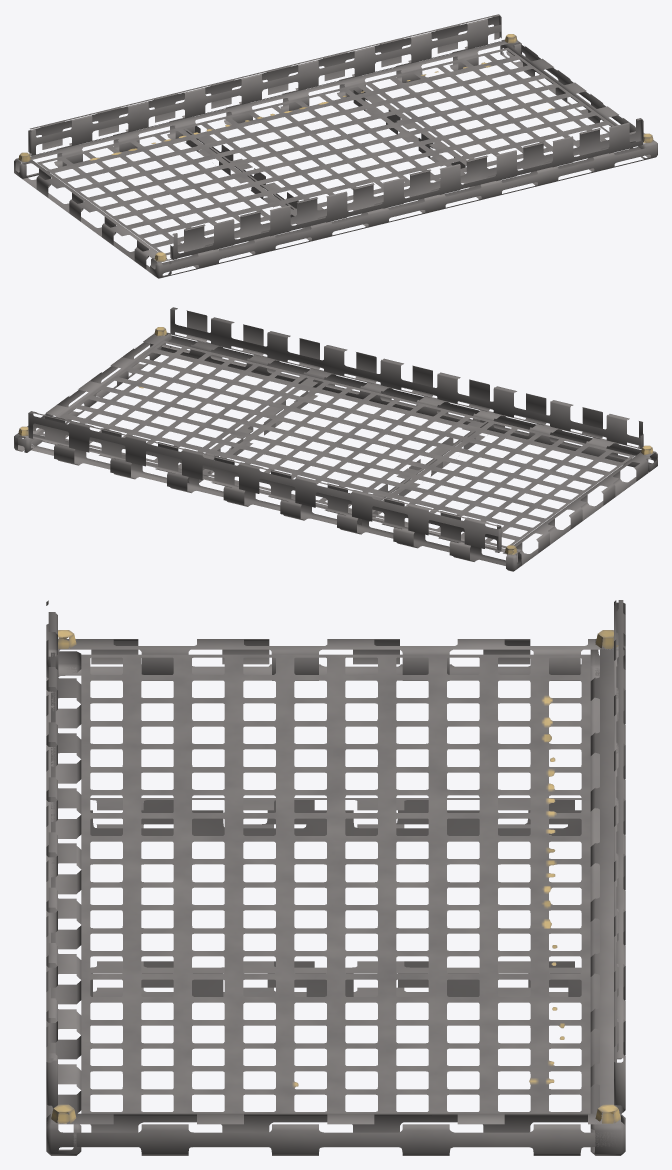
The model's file is catwalk_grate.gltf.
3 renders of one model, top to bottom at view 1: azimuth 30°, elevation 25°; view 2: azimuth 150°, elevation 25°; view 3: azimuth 270°, elevation 25°, orthographic. The views are drawn at different scales.
Parts seen in each view (by area): view 1: catwalk_grate; view 2: catwalk_grate; view 3: catwalk_grate.
Part boxes in pixels (x1,y1,x2,y2): catwalk_grate: (14,14,657,278); catwalk_grate: (14,307,657,571); catwalk_grate: (46,600,625,1155).
Size of the model in its own units: 2 by 0.16 by 1.
Materials: 1 (1 with a texture image).
